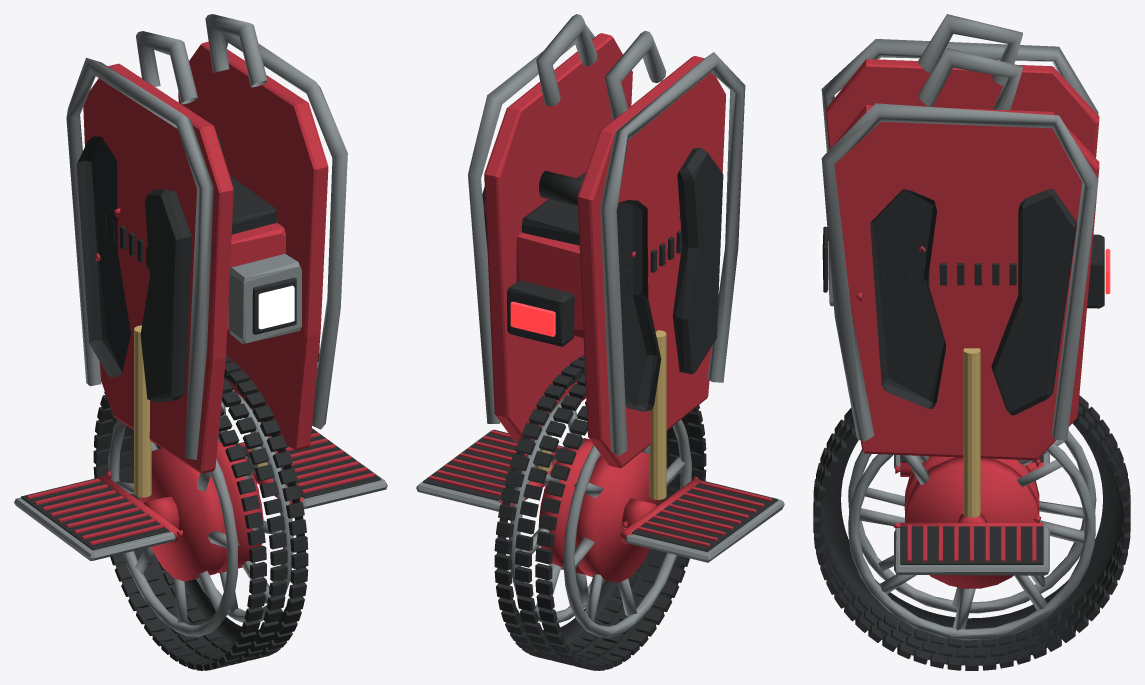
The model's file is Euc_speed.glb.
3 renders of one model, left to right at view 1: azimuth 30°, elevation 25°; view 2: azimuth 150°, elevation 25°; view 3: azimuth 270°, elevation 25°, orthographic.
Visible parts, largest first — view 1: SideShell_1, SideShell_-1, Tire_Staggered_Tread, CrashRail_-1, PowerPad_Front_-1, PowerPad_Rear_-1, CrashRail_1, Motor_Cover_-1, Rim_Ring_-1, Headlamp_Housing, Pedal_Grip_-1, Tire_Carcass (+18 smaller); view 2: SideShell_-1, SideShell_1, Tire_Staggered_Tread, CrashRail_-1, PowerPad_Front_-1, PowerPad_Rear_-1, Motor_Cover_-1, CrashRail_1, Rim_Ring_-1, Upper_Chassis, Pedal_Grip_-1, Tire_Carcass (+18 smaller); view 3: SideShell_1, CrashRail_1, Tire_Staggered_Tread, PowerPad_Front_1, PowerPad_Rear_1, SideShell_-1, Tire_Carcass, Motor_Cover_1, Rim_Ring_1, Wheel_Pivot_Rim_Spoke_Set, Pedal_Grip_1, CrashRail_-1 (+10 smaller).
Part boxes in pixels (x1,y1,x2,y2): SideShell_1: [178, 41, 328, 450]; SideShell_-1: [83, 63, 233, 473]; Tire_Staggered_Tread: [93, 355, 308, 670]; CrashRail_-1: [66, 57, 213, 459]; PowerPad_Front_-1: [140, 188, 191, 401]; PowerPad_Rear_-1: [76, 136, 130, 377]; CrashRail_1: [223, 33, 347, 429]; Motor_Cover_-1: [138, 448, 226, 581]; Rim_Ring_-1: [108, 420, 237, 636]; Headlamp_Housing: [228, 254, 301, 343]; Pedal_Grip_-1: [21, 478, 168, 550]; Tire_Carcass: [95, 374, 305, 663]; SideShell_-1: [577, 56, 725, 468]; SideShell_1: [484, 33, 632, 443]; Tire_Staggered_Tread: [494, 355, 706, 670]; CrashRail_-1: [600, 52, 745, 455]; PowerPad_Front_-1: [672, 147, 723, 374]; PowerPad_Rear_-1: [616, 200, 661, 411]; Motor_Cover_-1: [575, 452, 661, 582]; CrashRail_1: [468, 25, 594, 423]; Rim_Ring_-1: [563, 419, 691, 637]; Upper_Chassis: [516, 232, 583, 337]; Pedal_Grip_-1: [632, 480, 777, 551]; Tire_Carcass: [497, 372, 703, 665]; SideShell_1: [832, 105, 1099, 460]; CrashRail_1: [821, 103, 1098, 441]; Tire_Staggered_Tread: [813, 395, 1130, 670]; PowerPad_Front_1: [870, 189, 945, 408]; PowerPad_Rear_1: [991, 189, 1076, 415]; SideShell_-1: [826, 59, 1099, 157]; Tire_Carcass: [820, 416, 1123, 665]; Motor_Cover_1: [905, 457, 1039, 588]; Rim_Ring_1: [848, 443, 1095, 640]; Wheel_Pivot_Rim_Spoke_Set: [859, 440, 1084, 630]; Pedal_Grip_1: [900, 526, 1043, 564]; CrashRail_-1: [821, 39, 1098, 151].
Size of the model in its own units: 0.5477 by 1.11 by 0.5089.
